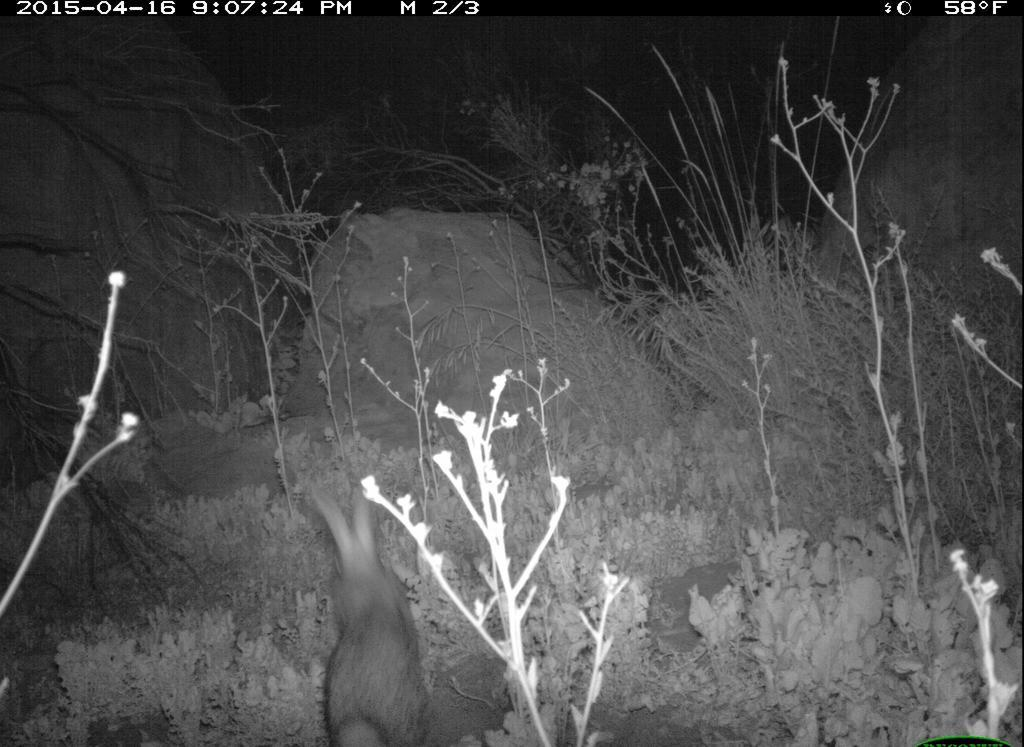rabbit: (291, 466, 441, 747)
